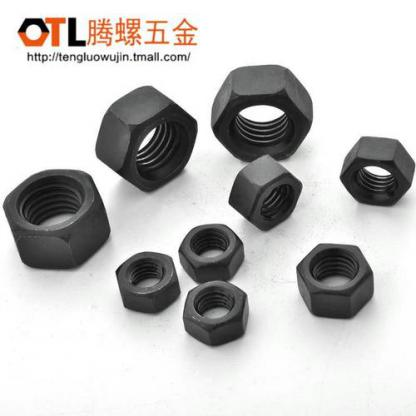FOD: (0, 169, 114, 269), (93, 85, 198, 193), (211, 62, 314, 163), (294, 243, 375, 319), (229, 154, 303, 233), (337, 135, 415, 208), (113, 249, 181, 316), (182, 282, 249, 349), (176, 222, 247, 284)
